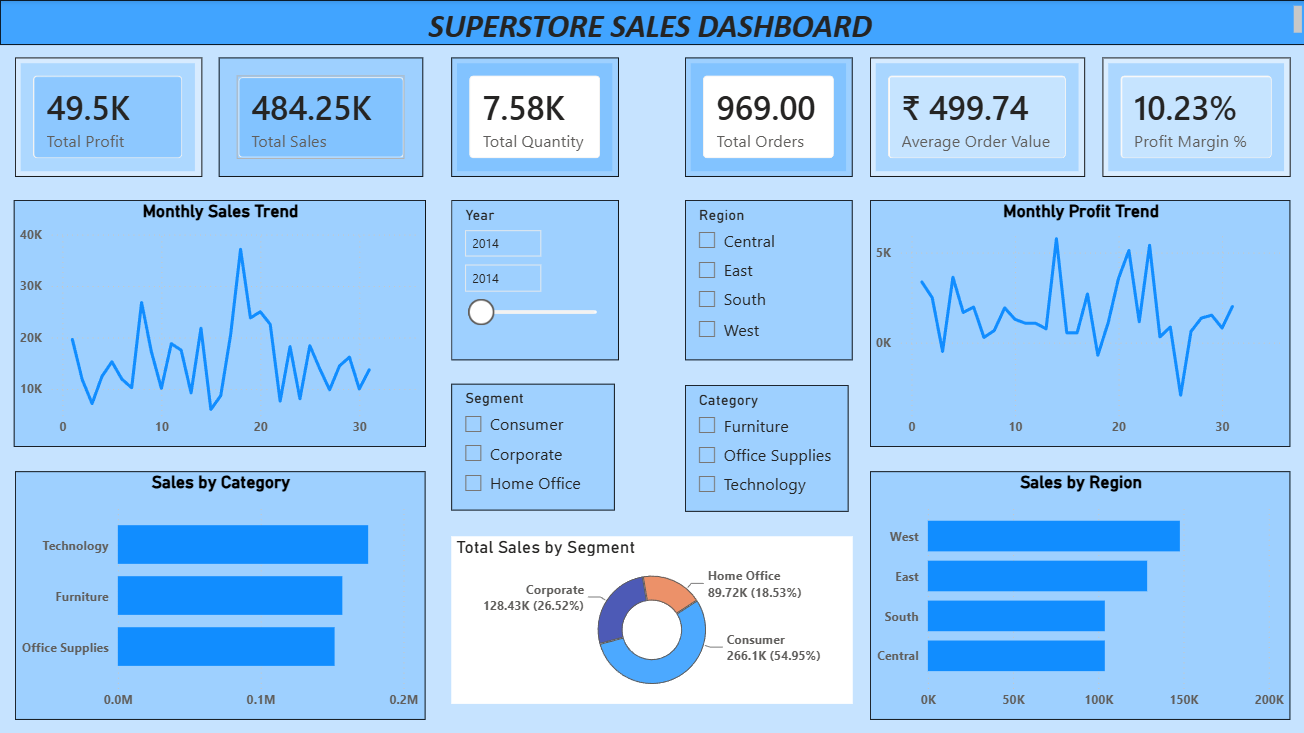

This screenshot's page, from the dashboard's own definition file:
{"tool":"powerbi","page":{"name":"Executive Dashboard","canvas":[1280,720],"ordinal":0},"visuals":[{"type":"cardVisual","fields":{"Data":["Superstore.Total Orders"]},"box":[670,55.7,164.3,117.1],"z":0},{"type":"cardVisual","fields":{"Data":["Superstore.Total Profit"]},"box":[14.3,55.7,182.9,117.1],"z":1000},{"type":"cardVisual","fields":{"Data":["Superstore.Total Sales"]},"box":[214.3,55.7,200,117.1],"z":2000},{"type":"cardVisual","fields":{"Data":["Superstore.Total Quantity"]},"box":[441.4,55.7,164.3,117.1],"z":3000},{"type":"cardVisual","fields":{"Data":["Superstore.Profit Margin %"]},"box":[1078.6,55.7,184.3,117.1],"z":4000},{"type":"textbox","box":[0,0,1280,44.3],"z":5000},{"type":"lineChart","title":"Monthly Sales Trend","fields":{"Y":["Superstore.Total Sales"],"Category":["Superstore.Order Date.Variation.Date Hierarchy.Year","Superstore.Order Date.Variation.Date Hierarchy.Quarter","Superstore.Order Date.Variation.Date Hierarchy.Month","Superstore.Order Date.Variation.Date Hierarchy.Day"]},"box":[12.9,195.7,402.9,241.4],"z":6000},{"type":"lineChart","title":"Monthly Profit Trend","fields":{"Category":["Superstore.Order Date.Variation.Date Hierarchy.Year","Superstore.Order Date.Variation.Date Hierarchy.Quarter","Superstore.Order Date.Variation.Date Hierarchy.Month","Superstore.Order Date.Variation.Date Hierarchy.Day"],"Y":["Superstore.Total Profit"]},"box":[851.4,195.7,411.4,241.4],"z":7000},{"type":"clusteredBarChart","title":"Sales by Category","fields":{"Y":["Superstore.Total Sales"],"Category":["Superstore.Category"]},"box":[14.3,461.4,401.4,242.9],"z":8000},{"type":"clusteredBarChart","title":"Sales by Region","fields":{"Y":["Superstore.Total Sales"],"Category":["Superstore.Region"]},"box":[851.4,461.4,411.4,242.9],"z":9000},{"type":"cardVisual","fields":{"Data":["Superstore.Average Order Value"]},"box":[851.4,55.7,210,117.1],"z":10000},{"type":"slicer","fields":{"Values":["Superstore.Year"]},"box":[441.4,195.7,164.3,157.1],"z":11000},{"type":"slicer","fields":{"Values":["Superstore.Region"]},"box":[670,195.7,164.3,157.1],"z":12000},{"type":"slicer","fields":{"Values":["Superstore.Segment"]},"box":[441.4,375.7,160,124.3],"z":13000},{"type":"slicer","fields":{"Values":["Superstore.Category"]},"box":[670,377.1,160,124.3],"z":14000},{"type":"donutChart","fields":{"Category":["Superstore.Segment"],"Y":["Superstore.Total Sales"]},"box":[441.4,524.3,392.9,164.3],"z":15000}]}

Visuals, with their boxes in screenshot pixels (x1, y1, x2, y2), scaled from the page's 1280x720 canvas onto the 1304x733 screenshot:
cardVisual - Superstore.Total Orders: (x1=683, y1=57, x2=850, y2=176)
cardVisual - Superstore.Total Profit: (x1=15, y1=57, x2=201, y2=176)
cardVisual - Superstore.Total Sales: (x1=218, y1=57, x2=422, y2=176)
cardVisual - Superstore.Total Quantity: (x1=450, y1=57, x2=617, y2=176)
cardVisual - Superstore.Profit Margin %: (x1=1099, y1=57, x2=1287, y2=176)
textbox: (x1=0, y1=0, x2=1303, y2=45)
"Monthly Sales Trend" lineChart: (x1=13, y1=199, x2=424, y2=445)
"Monthly Profit Trend" lineChart: (x1=867, y1=199, x2=1286, y2=445)
"Sales by Category" clusteredBarChart: (x1=15, y1=470, x2=423, y2=717)
"Sales by Region" clusteredBarChart: (x1=867, y1=470, x2=1286, y2=717)
cardVisual - Superstore.Average Order Value: (x1=867, y1=57, x2=1081, y2=176)
slicer - Superstore.Year: (x1=450, y1=199, x2=617, y2=359)
slicer - Superstore.Region: (x1=683, y1=199, x2=850, y2=359)
slicer - Superstore.Segment: (x1=450, y1=382, x2=613, y2=509)
slicer - Superstore.Category: (x1=683, y1=384, x2=846, y2=510)
donutChart - Superstore.Segment x Superstore.Total Sales: (x1=450, y1=534, x2=850, y2=701)
